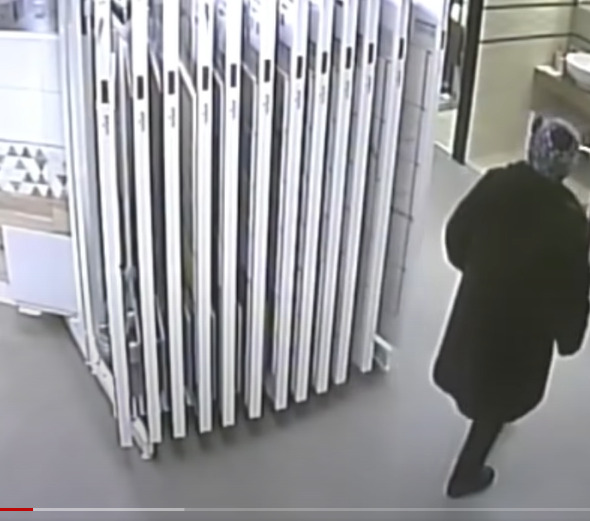person: (433, 118, 588, 497)
